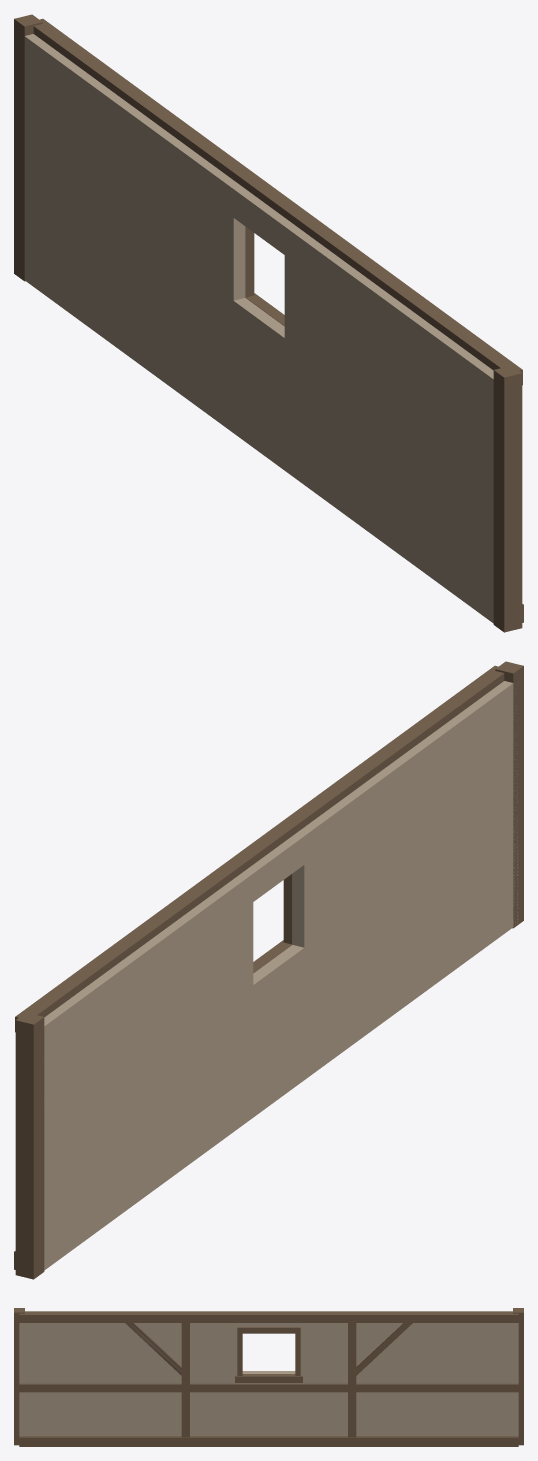
Rendered from beam_C.glb.
The picture shows the model from 3 angles, top to bottom: view 1: azimuth 30°, elevation 25°; view 2: azimuth 150°, elevation 25°; view 3: azimuth 270°, elevation 25°; orthographic projection. The views are drawn at different scales.
Visible parts, largest first — view 1: MOD01_Bay_3_Infill, MOD01_Bay_1_Infill, MOD01_Bay_2_Infill, 08A_SideWallPlate.006, 08A_CornerPost.012, 08A_CornerPost.013; view 2: MOD01_Bay_1_Infill, MOD01_Bay_3_Infill, MOD01_Bay_2_Infill, 08A_SideWallPlate.006, 08A_CornerPost.013, 08A_CornerPost.012; view 3: MOD01_Bay_1_Infill, MOD01_Bay_3_Infill, MOD01_Bay_2_Infill, 08A_SideWallPlate.006, ART01_SideSill, ART01_MidRail, ART01_IntermediatePost_1, ART01_IntermediatePost_2, 08A_CornerPost.012, 08A_CornerPost.013, MOD01_Bay_2_sill, ART01_KneeBrace_2 (+4 smaller).
Boxes of the visible parts, x1=… form: MOD01_Bay_3_Infill: x1=24, y1=34, x2=187, y2=392; MOD01_Bay_1_Infill: x1=339, y1=264, x2=493, y2=623; MOD01_Bay_2_Infill: x1=179, y1=147, x2=347, y2=509; 08A_SideWallPlate.006: x1=33, y1=18, x2=522, y2=385; 08A_CornerPost.012: x1=493, y1=365, x2=522, y2=632; 08A_CornerPost.013: x1=14, y1=14, x2=42, y2=281; MOD01_Bay_1_Infill: x1=350, y1=681, x2=518, y2=1039; MOD01_Bay_3_Infill: x1=44, y1=911, x2=198, y2=1270; MOD01_Bay_2_Infill: x1=190, y1=794, x2=358, y2=1156; 08A_SideWallPlate.006: x1=15, y1=665, x2=504, y2=1032; 08A_CornerPost.013: x1=15, y1=1012, x2=44, y2=1279; 08A_CornerPost.012: x1=495, y1=661, x2=523, y2=928; MOD01_Bay_1_Infill: x1=19, y1=1323, x2=181, y2=1435; MOD01_Bay_3_Infill: x1=356, y1=1323, x2=518, y2=1435; MOD01_Bay_2_Infill: x1=190, y1=1323, x2=347, y2=1435; 08A_SideWallPlate.006: x1=19, y1=1311, x2=518, y2=1322; ART01_SideSill: x1=19, y1=1436, x2=518, y2=1446; ART01_MidRail: x1=19, y1=1383, x2=518, y2=1392; ART01_IntermediatePost_1: x1=181, y1=1323, x2=189, y2=1437; ART01_IntermediatePost_2: x1=348, y1=1323, x2=356, y2=1437; 08A_CornerPost.012: x1=14, y1=1308, x2=24, y2=1445; 08A_CornerPost.013: x1=513, y1=1308, x2=523, y2=1445; MOD01_Bay_2_sill: x1=235, y1=1374, x2=302, y2=1382; ART01_KneeBrace_2: x1=356, y1=1323, x2=412, y2=1375.
Size of the model in its own units: 0.22 by 2.14 by 7.46.
Materials: 3 (1 with a texture image).
